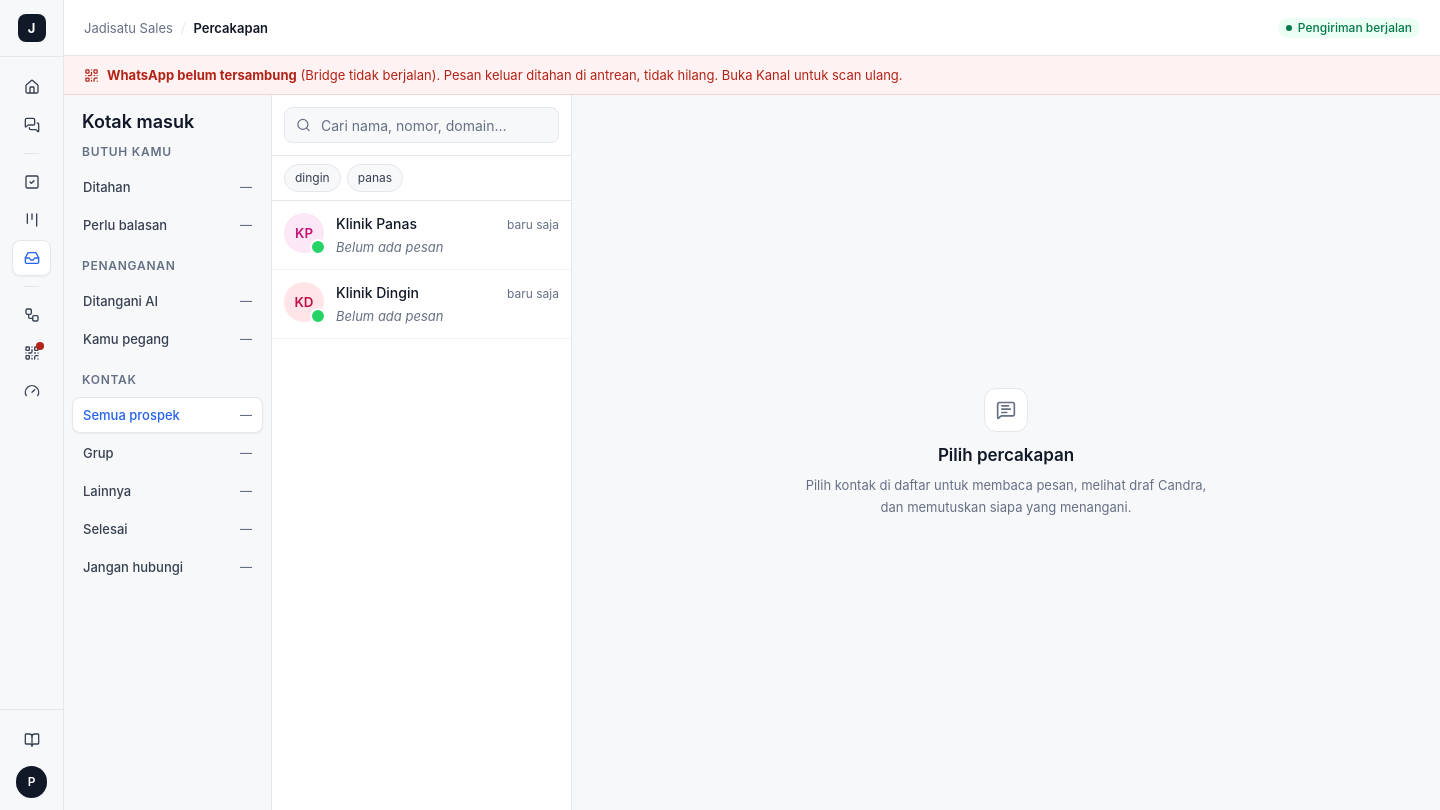
Test: Percakapan — filter label › menampilkan label dari backend dan menyaring daftar
Check: the text "Klinik Panas" is shown, box top-left (336, 213), bottom-right (417, 235)
Step 1. Click the button "panas" → [375, 178], box top-left (347, 164), bottom-right (403, 192)
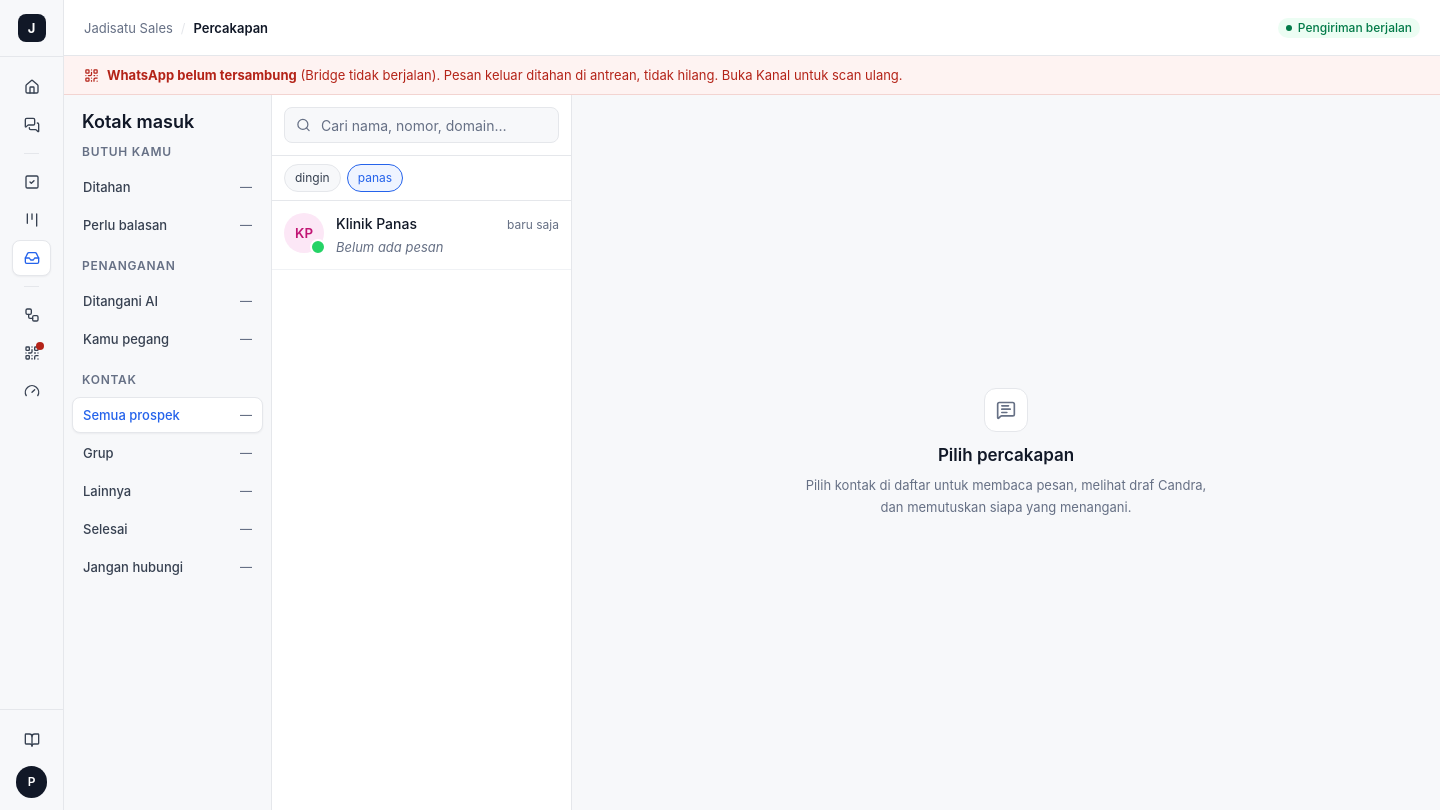
Check: the text "Klinik Panas" is shown, box top-left (336, 213), bottom-right (417, 235)
Check: the button "Klinik Dingin" is gone
Step 2. Click the button "panas" → [375, 178], box top-left (347, 164), bottom-right (403, 192)
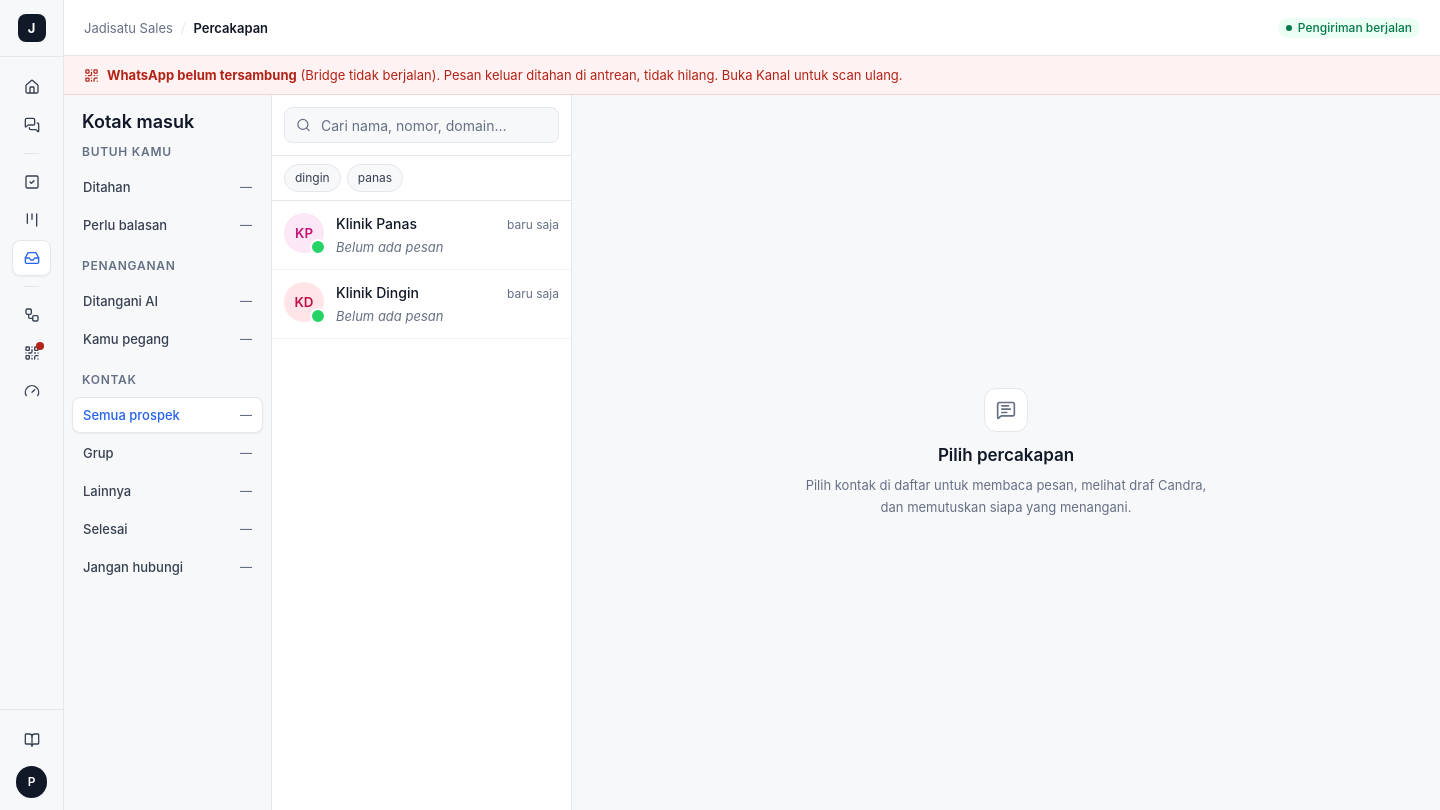
Check: the text "Klinik Dingin" is shown, box top-left (336, 282), bottom-right (419, 304)
